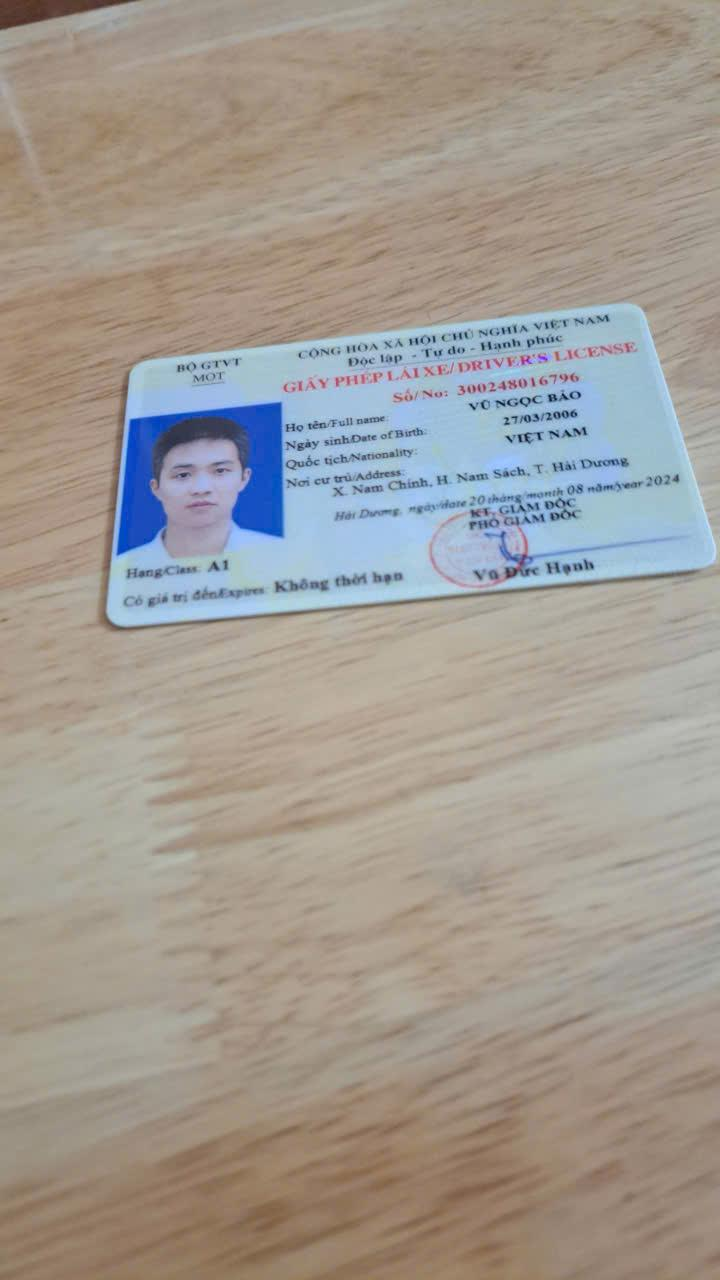gplx: (96, 301, 715, 635)
